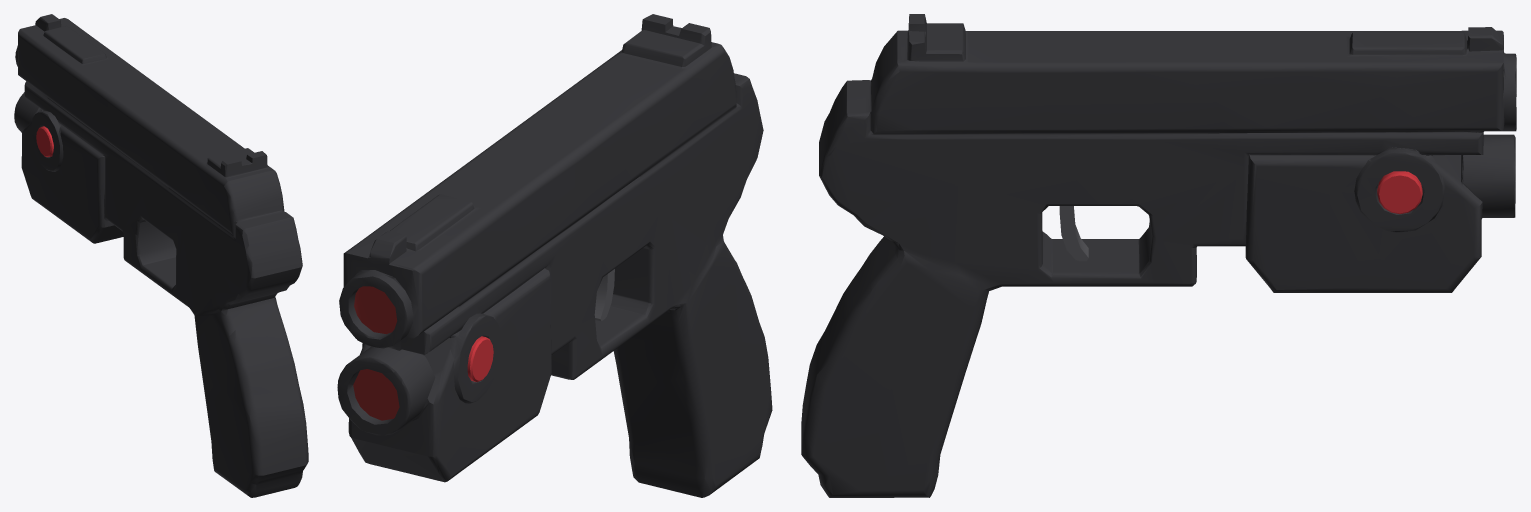
File: lightgun.glb
3 views of the same model, side by side, from view 1: azimuth 30°, elevation 25°; view 2: azimuth 150°, elevation 25°; view 3: azimuth 270°, elevation 25° (orthographic). The views are drawn at different scales.
Parts seen in each view (by area): view 1: body, button_left; view 2: body, button_left, trigger; view 3: body, button_right, trigger.
Boxes of the visible parts, bbox=[...] form: body: bbox=[14, 14, 308, 497]; button_left: bbox=[36, 126, 53, 157]; body: bbox=[337, 14, 772, 497]; button_left: bbox=[467, 336, 493, 381]; trigger: bbox=[594, 269, 614, 321]; body: bbox=[801, 14, 1516, 497]; button_right: bbox=[1377, 171, 1422, 213]; trigger: bbox=[1059, 206, 1088, 261].
Bounding box in the file's own units: 0.0392 × 0.1693 × 0.2414.
